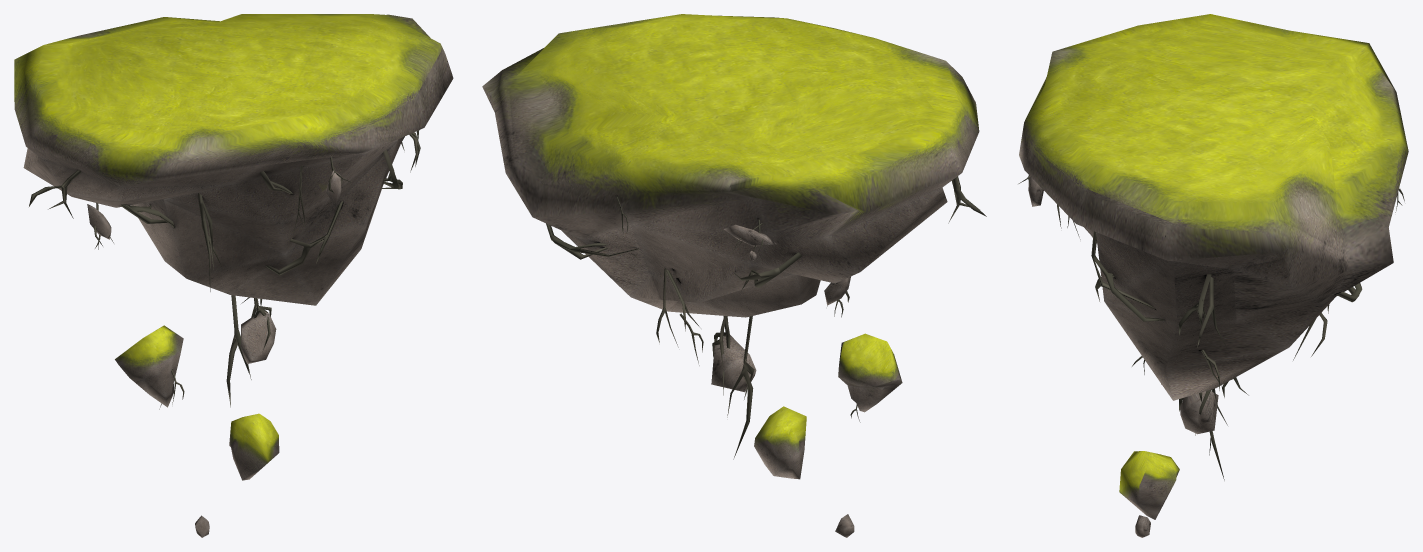
File: Floating_Rock_Large_01.fbx
3 renders of one model, left to right at view 1: azimuth 30°, elevation 25°; view 2: azimuth 150°, elevation 25°; view 3: azimuth 270°, elevation 25°, orthographic. The views are drawn at different scales.
Visible parts, largest first — view 1: polySurface8; view 2: polySurface8; view 3: polySurface8.
Part boxes in pixels (left/top/right/bottom): polySurface8: left=14, top=14, right=453, bottom=537; polySurface8: left=482, top=14, right=986, bottom=537; polySurface8: left=1018, top=14, right=1408, bottom=537.
Bounding box in the file's own units: 16.06 × 15.64 × 11.83.
1 material, 1 textured.
